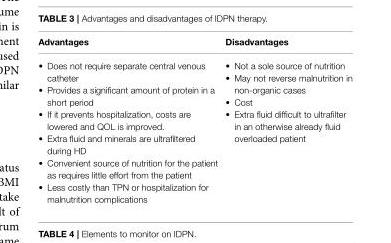table: (37, 37, 351, 203)
table column: (37, 37, 220, 203), (220, 37, 351, 203)
table column header: (37, 37, 351, 53)
table row: (37, 53, 351, 203), (37, 37, 351, 53)
